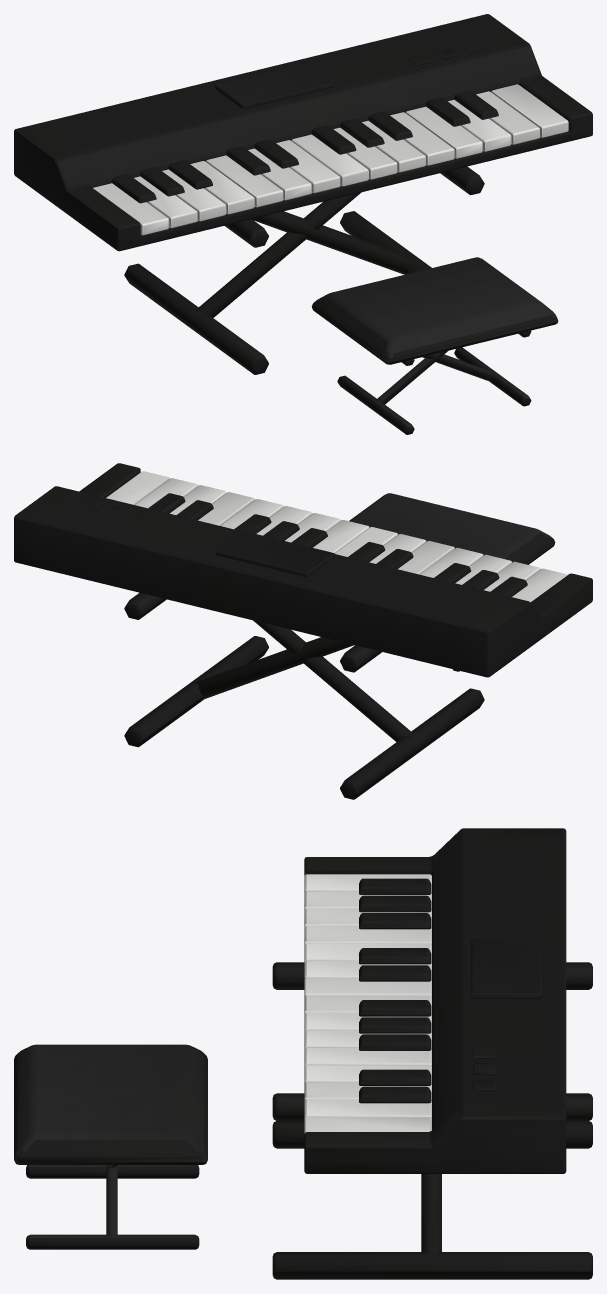
The picture shows the model from 3 angles, top to bottom: view 1: azimuth 30°, elevation 25°; view 2: azimuth 150°, elevation 25°; view 3: azimuth 270°, elevation 25°; orthographic projection. The views are drawn at different scales.
Parts seen in each view (by area): view 1: keybroad_set_01.001, keybroad_set_01.029, keybroad_set_01.033, keybroad_set_01.032, keybroad_set_01.031, keybroad_set_01.037, keybroad_set_01.030, keybroad_set_01.010, keybroad_set_01.006, keybroad_set_01, keybroad_set_01.014, keybroad_set_01.017 (+12 smaller); view 2: keybroad_set_01.001, keybroad_set_01.029, keybroad_set_01.033, keybroad_set_01.032, keybroad_set_01.031, keybroad_set_01.010, keybroad_set_01.006, keybroad_set_01, keybroad_set_01.014, keybroad_set_01.013, keybroad_set_01.017, keybroad_set_01.008 (+10 smaller); view 3: keybroad_set_01.001, keybroad_set_01.029, keybroad_set_01.037, keybroad_set_01.035, keybroad_set_01.042, keybroad_set_01.040, keybroad_set_01.008, keybroad_set_01.017, keybroad_set_01.013, keybroad_set_01.031, keybroad_set_01.033, keybroad_set_01.036 (+13 smaller).
Part boxes in pixels (x1,y1,x2,y2): keybroad_set_01.001: [15, 14, 592, 434]; keybroad_set_01.029: [14, 14, 541, 250]; keybroad_set_01.033: [124, 263, 268, 374]; keybroad_set_01.032: [196, 192, 361, 317]; keybroad_set_01.031: [252, 211, 413, 274]; keybroad_set_01.037: [311, 293, 558, 364]; keybroad_set_01.030: [92, 83, 570, 238]; keybroad_set_01.010: [291, 134, 368, 186]; keybroad_set_01.006: [405, 106, 482, 158]; keybroad_set_01: [206, 155, 281, 207]; keybroad_set_01.014: [93, 183, 169, 234]; keybroad_set_01.017: [190, 161, 254, 213]; keybroad_set_01.001: [15, 463, 592, 792]; keybroad_set_01.029: [14, 515, 592, 677]; keybroad_set_01.033: [340, 688, 484, 799]; keybroad_set_01.032: [253, 620, 413, 741]; keybroad_set_01.031: [196, 637, 354, 699]; keybroad_set_01.010: [313, 520, 369, 553]; keybroad_set_01.006: [198, 492, 255, 525]; keybroad_set_01: [398, 541, 454, 574]; keybroad_set_01.014: [512, 568, 567, 602]; keybroad_set_01.013: [220, 499, 283, 529]; keybroad_set_01.017: [420, 547, 483, 577]; keybroad_set_01.008: [135, 478, 198, 508]; keybroad_set_01.001: [14, 828, 591, 1279]; keybroad_set_01.029: [305, 828, 566, 1173]; keybroad_set_01.037: [14, 1045, 207, 1164]; keybroad_set_01.035: [276, 1254, 592, 1279]; keybroad_set_01.042: [30, 1234, 199, 1249]; keybroad_set_01.040: [30, 1165, 199, 1178]; keybroad_set_01.008: [305, 1100, 431, 1118]; keybroad_set_01.017: [305, 926, 431, 944]; keybroad_set_01.013: [305, 1047, 431, 1066]; keybroad_set_01.031: [421, 1174, 441, 1255]; keybroad_set_01.033: [272, 1121, 592, 1148]; keybroad_set_01.036: [276, 1093, 592, 1120].
Size of the model in its own units: 83.42 by 32.94 by 70.49.
